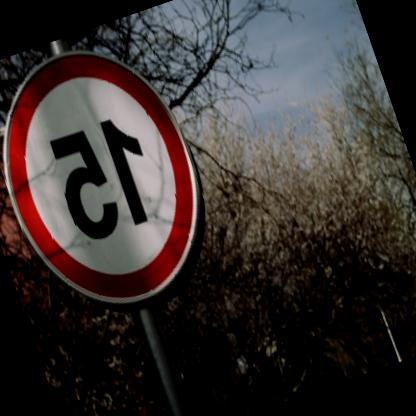speedlimit: (0, 23, 237, 337)
